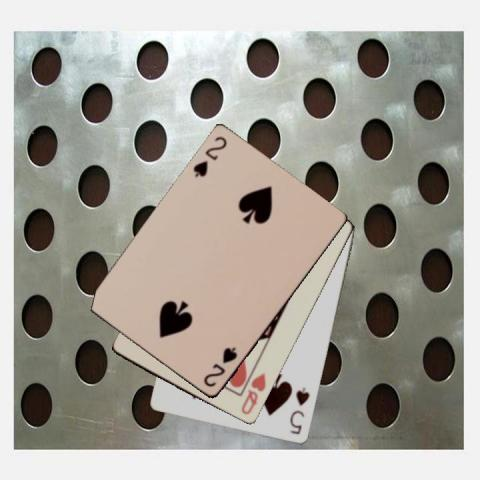2s: (190, 133, 229, 179), (200, 344, 239, 389)
5s: (287, 384, 311, 436)
Qh: (238, 370, 268, 417)
